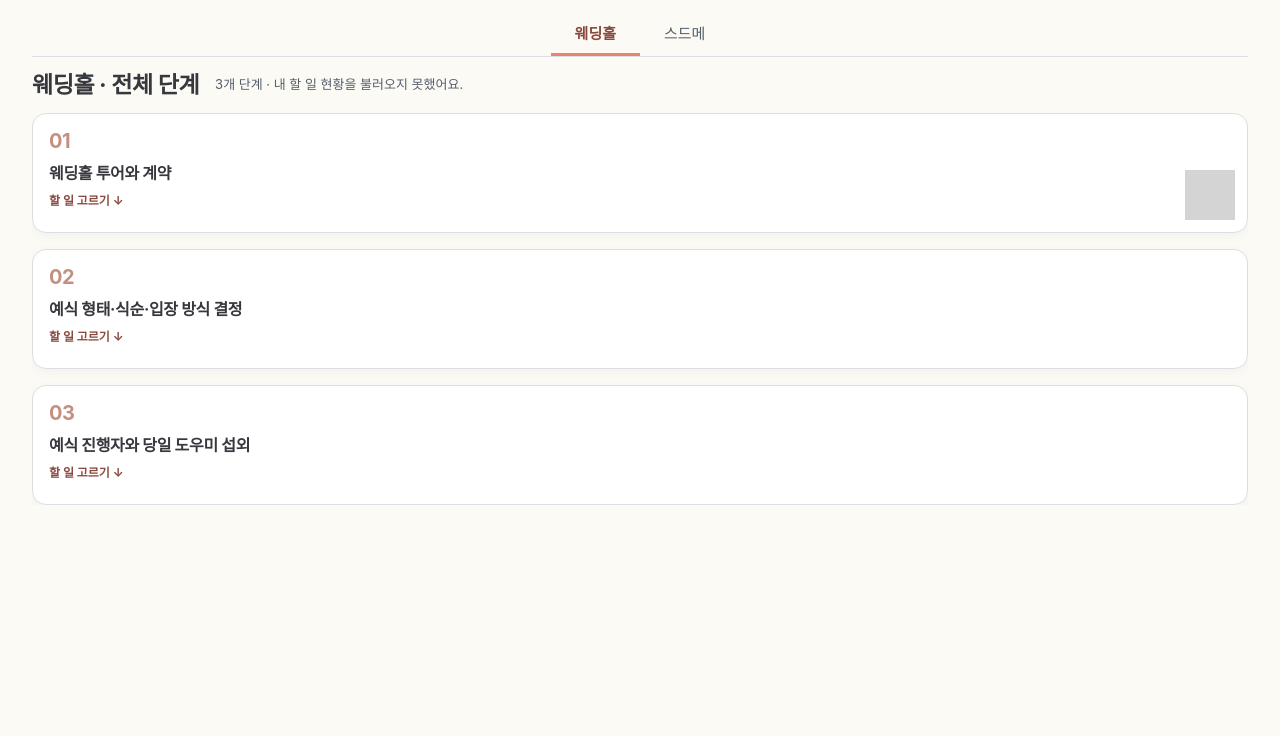
Test: AllPreparationStepsFeature 로그인 체크리스트 추가 › 개별 할 일을 서버 체크리스트에 추가하고 즉시 화면에 반영한다
The image size is (1280, 736).
expect the heading "웨딩홀 · 전체 단계" is shown: met, box [32,69,199,101]
Click the button "01 웨딩홀 투어와 계약 할 일 고르기 ↓": (110, 173) [32,113,1248,233]
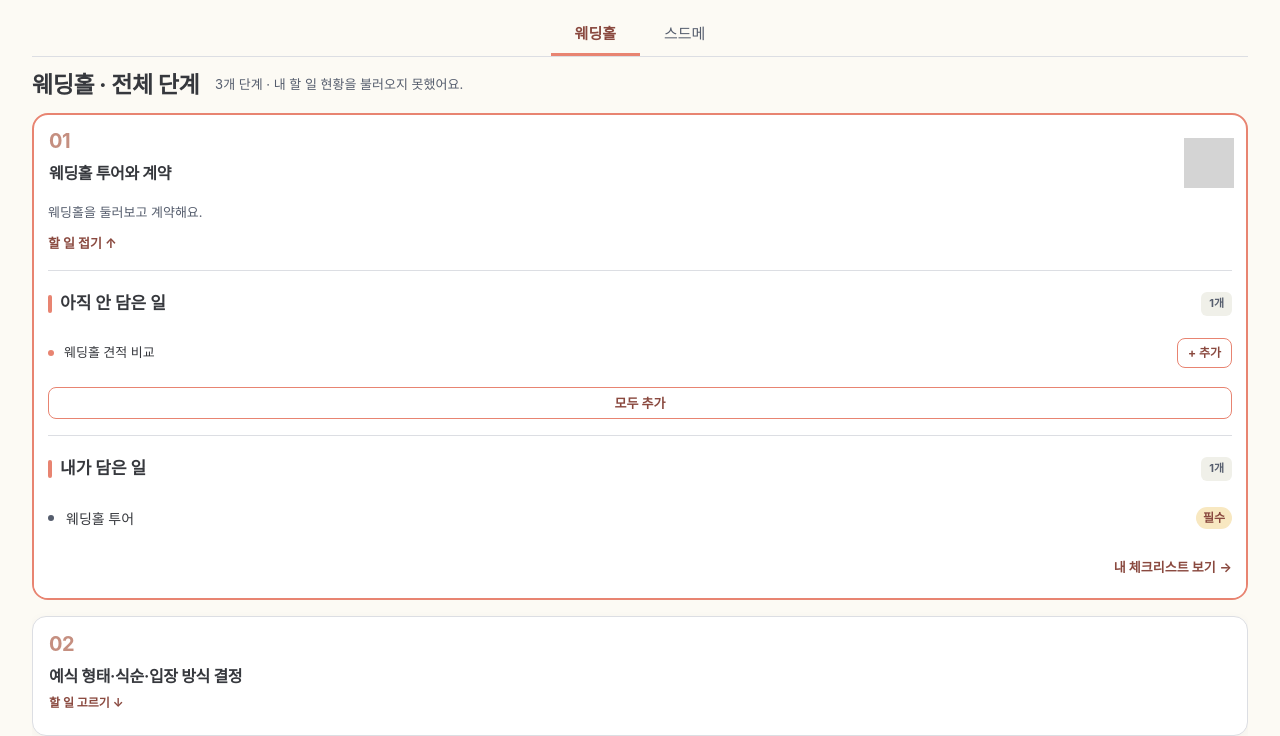
Click the button with aria-label "웨딩홀 견적 비교 추가": (1204, 353) [1177,338,1232,368]
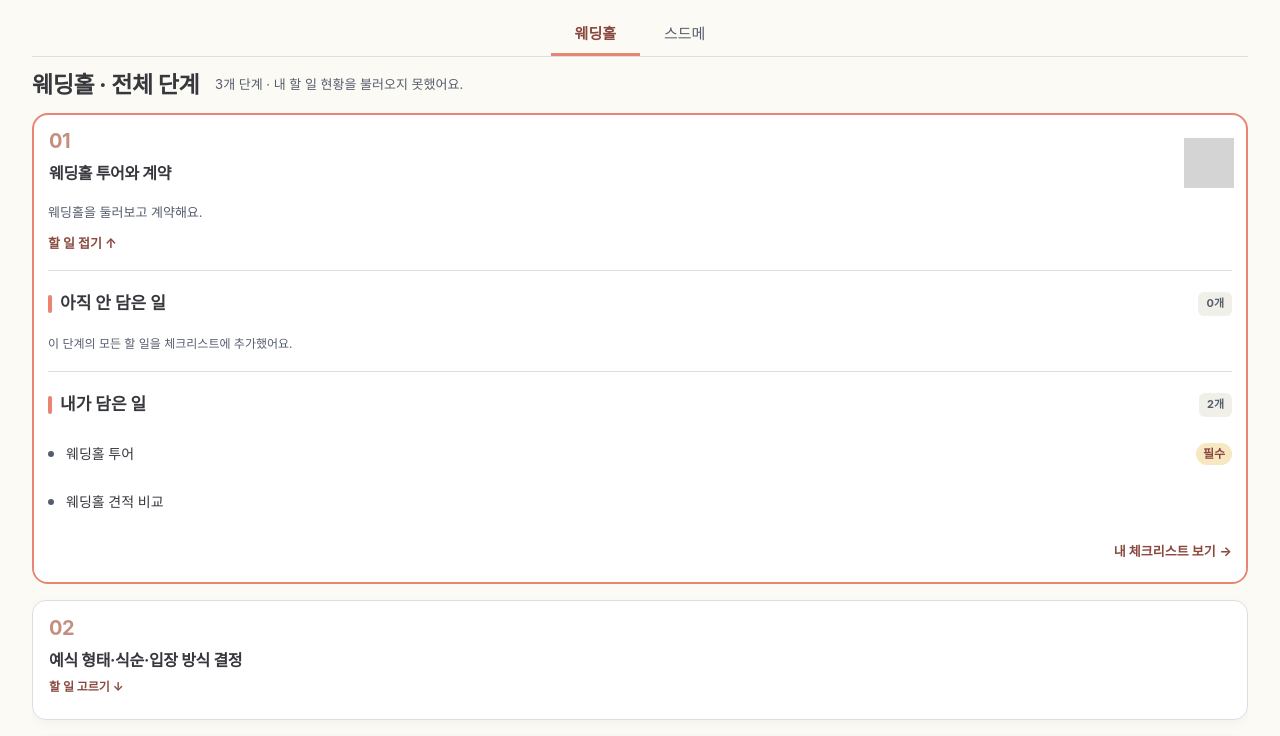
expect the text "2개" is shown: met, box [1199,393,1232,417]
